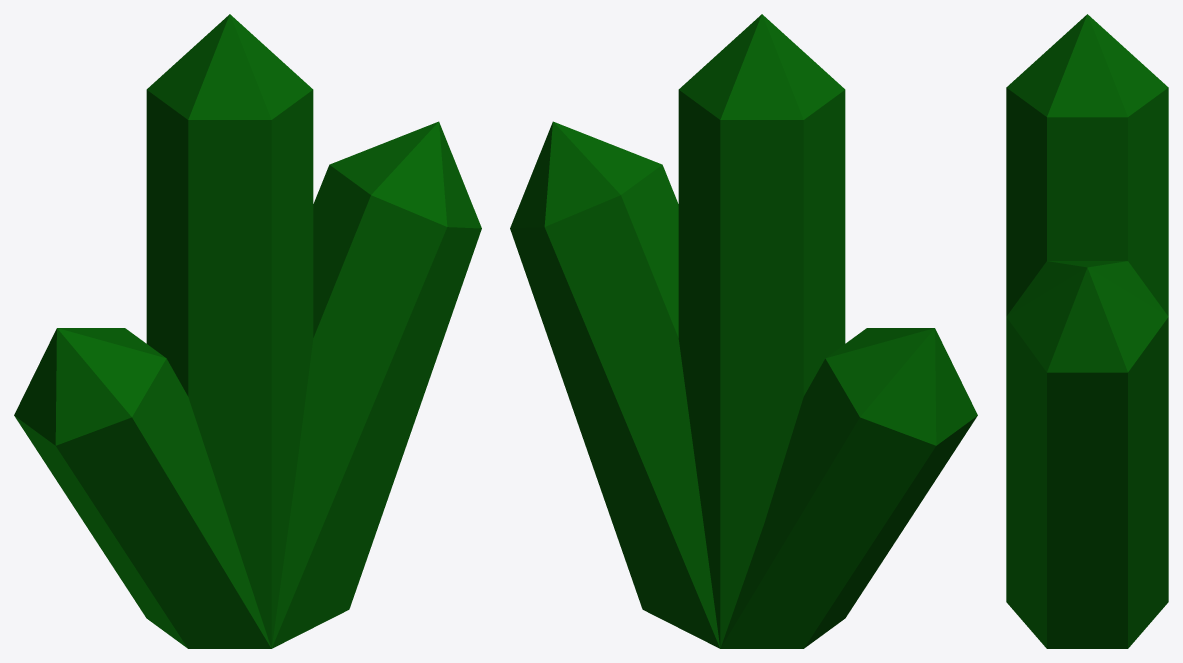
File: green_cave_crystal.obj
The picture shows the model from 3 angles, left to right: view 1: azimuth 30°, elevation 25°; view 2: azimuth 150°, elevation 25°; view 3: azimuth 270°, elevation 25°; orthographic projection. The views are drawn at different scales.
Visible parts, largest first — view 1: main; view 2: main; view 3: main.
Boxes of the visible parts, x1=… form: main: x1=14, y1=14, x2=481, y2=648; main: x1=510, y1=14, x2=977, y2=648; main: x1=1006, y1=14, x2=1168, y2=648.
Size of the model in its own units: 0.7381 by 1 by 0.25.
